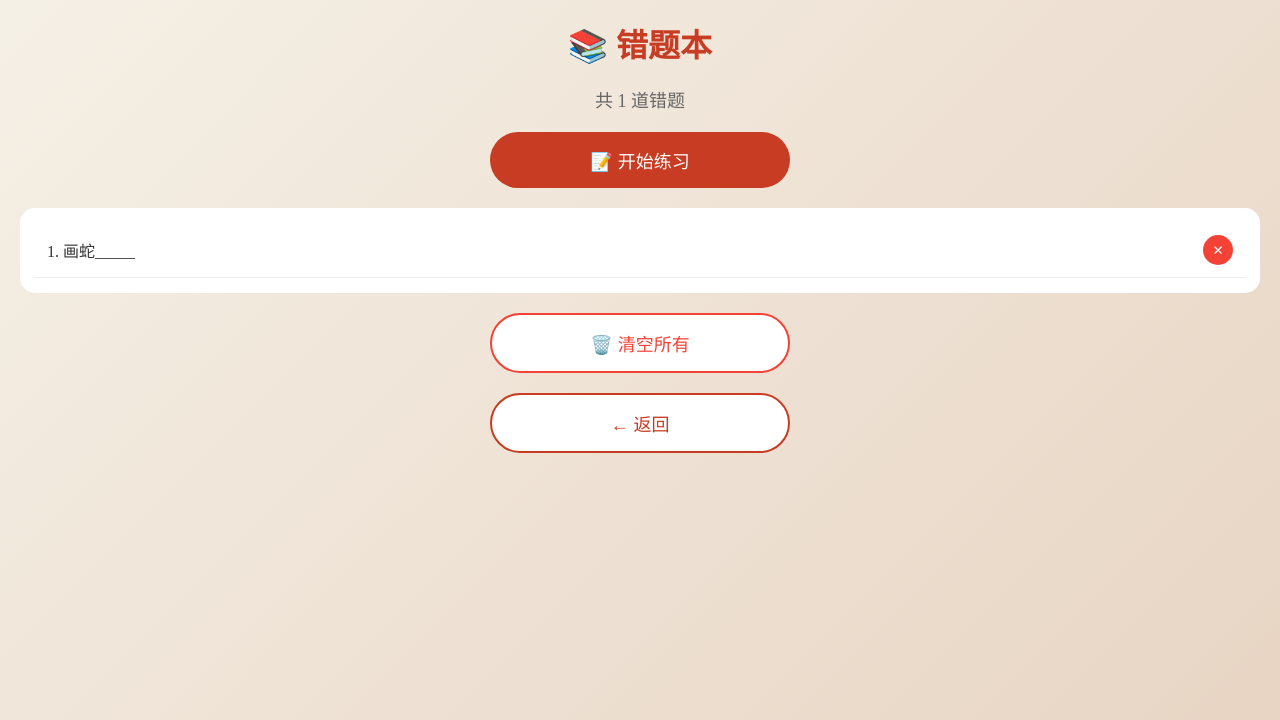
it: WrongWords page › Practice mode › should return to list from practice mode
This screenshot has width=1280, height=720.
Click the button "📝 开始练习".
click(640, 160)  # box [490,132,790,188]
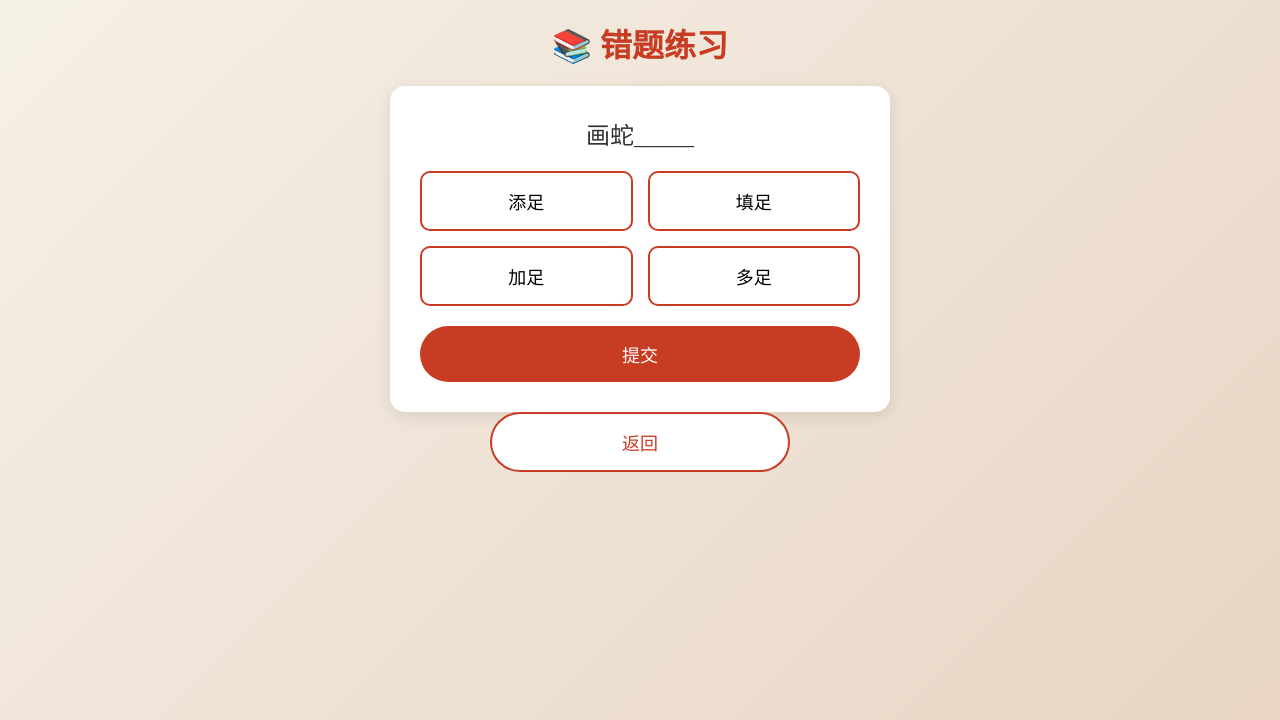
Click the button "返回".
click(640, 442)  # box [490,412,790,472]
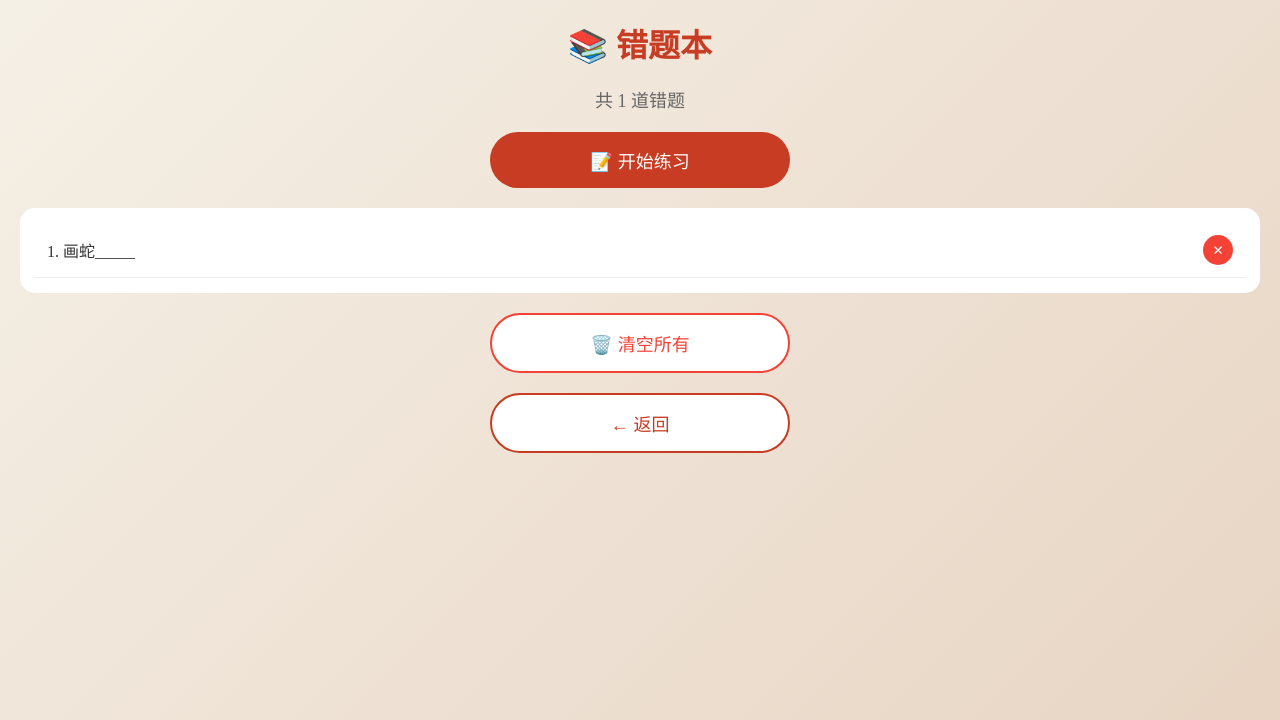
Check: the heading "📚 错题本" is shown, box [568,28,712,64]
